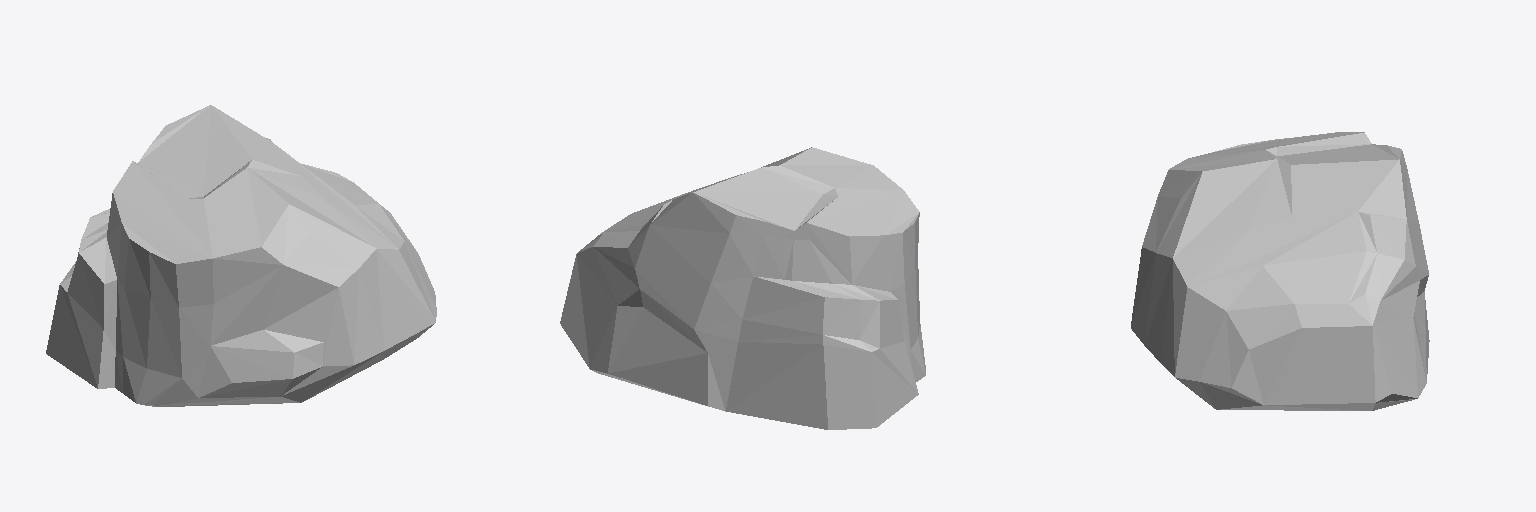
The model's file is Rock_Medium_2.obj.
3 renders of one model, left to right at view 1: azimuth 30°, elevation 25°; view 2: azimuth 150°, elevation 25°; view 3: azimuth 270°, elevation 25°, orthographic.
Parts seen in each view (by area): view 1: Rock_Medium_2; view 2: Rock_Medium_2; view 3: Rock_Medium_2.
Part boxes in pixels (x1,y1,x2,y2): Rock_Medium_2: (46, 105, 436, 406); Rock_Medium_2: (560, 147, 925, 429); Rock_Medium_2: (1131, 132, 1429, 410).
Size of the model in its own units: 3.05 by 1.9 by 2.48.